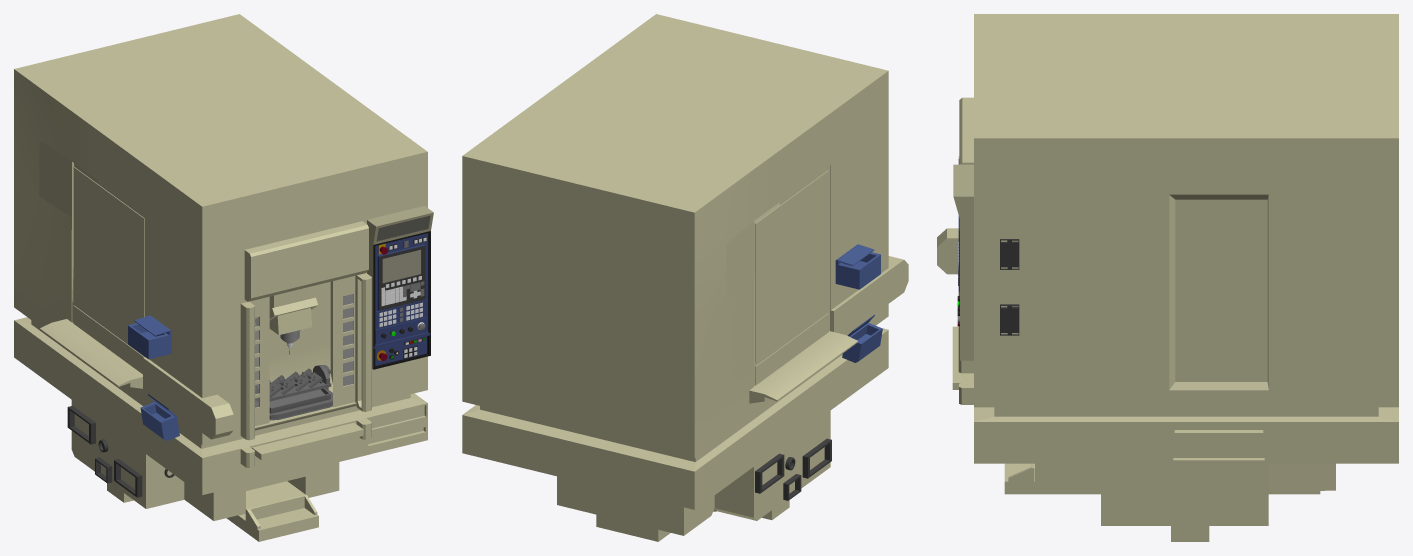
The picture shows the model from 3 angles, left to right: view 1: azimuth 30°, elevation 25°; view 2: azimuth 150°, elevation 25°; view 3: azimuth 270°, elevation 25°; orthographic projection. The views are drawn at different scales.
Parts seen in each view (by area): view 1: pCube1, pCube8, polySurface7, pCube5, polySurface6, pCube12, pCube7, pCube6, pCube27, Plane, pCube28, pCube3 (+1 smaller); view 2: pCube1, pCube5, pCube7, pCube6, pCube3, pCube2; view 3: pCube1, pCube8, pCube10, pCube9.
Part boxes in pixels (x1,y1,x2,y2): pCube1: [14, 14, 427, 541]; pCube8: [367, 206, 433, 369]; polySurface7: [333, 276, 355, 407]; pCube5: [39, 319, 142, 388]; polySurface6: [250, 296, 269, 426]; pCube12: [255, 287, 317, 334]; pCube7: [128, 315, 171, 359]; pCube6: [140, 394, 179, 440]; pCube27: [269, 388, 330, 413]; Plane: [376, 215, 430, 241]; pCube28: [256, 390, 332, 420]; pCube3: [67, 406, 95, 444]; pCube1: [462, 14, 908, 541]; pCube5: [749, 331, 857, 403]; pCube7: [835, 244, 880, 289]; pCube6: [842, 314, 882, 362]; pCube3: [755, 453, 784, 493]; pCube2: [802, 438, 831, 478]; pCube1: [937, 14, 1398, 541]; pCube8: [953, 164, 973, 360]; pCube10: [1000, 304, 1019, 335]; pCube9: [1000, 239, 1019, 269].
Size of the model in its own units: 156 by 211 by 216.
